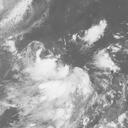cyclone: (27, 57, 92, 110)
